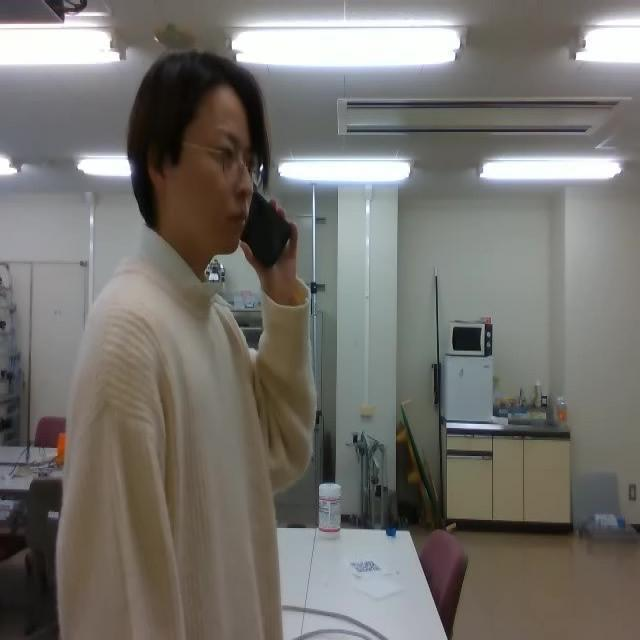Phone: (240, 188, 294, 268)
